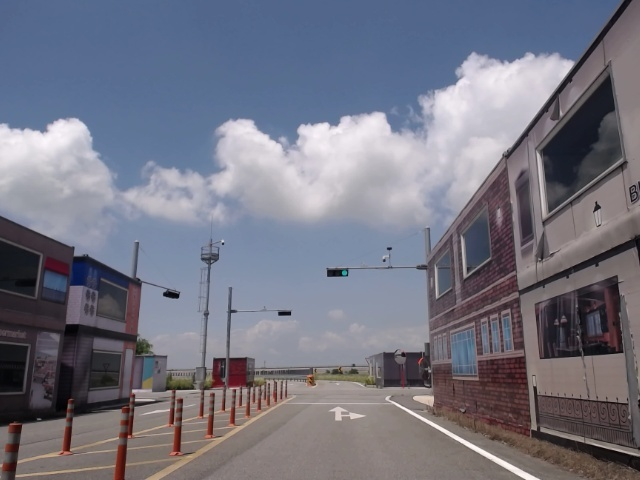green_3: (327, 269, 349, 277)
